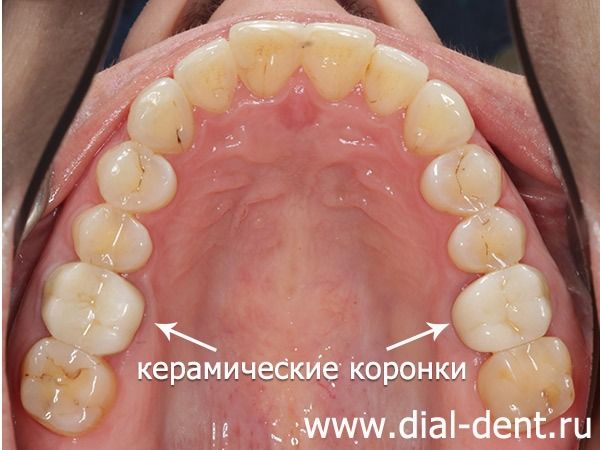UL1BC_decay: (421, 145, 499, 213)
UL1M_healthy: (454, 265, 549, 351)
UL2BC_decay: (450, 209, 524, 272)
UL2M_healthy: (480, 337, 571, 408)
ULCI_decay: (303, 23, 375, 98)
ULC_healthy: (405, 79, 474, 145)
ULLI_healthy: (373, 46, 428, 117)
UR1BC_decay: (98, 143, 177, 212)
UR1M_healthy: (44, 263, 141, 353)
UR2BC_healthy: (73, 204, 152, 272)
UR2M_decay: (21, 338, 109, 431)
URCI_decay: (230, 21, 302, 94)
URC_decay: (128, 77, 194, 152)
URLI_healthy: (174, 38, 236, 108)
